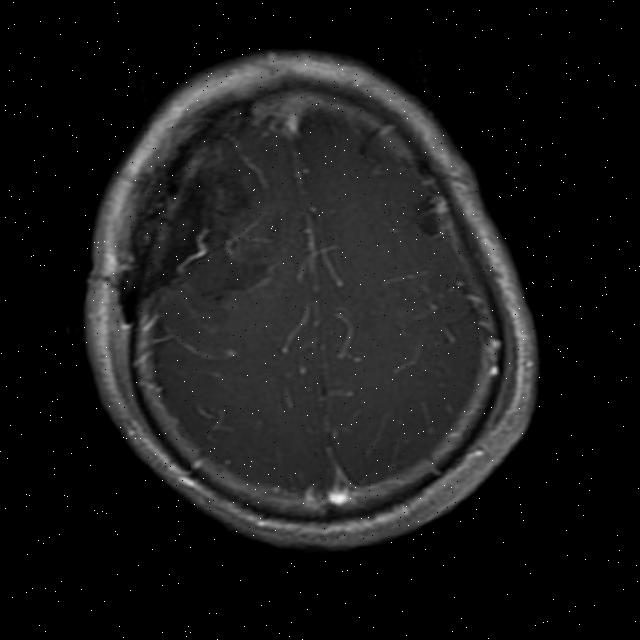Glioma: (138, 164, 272, 306)
